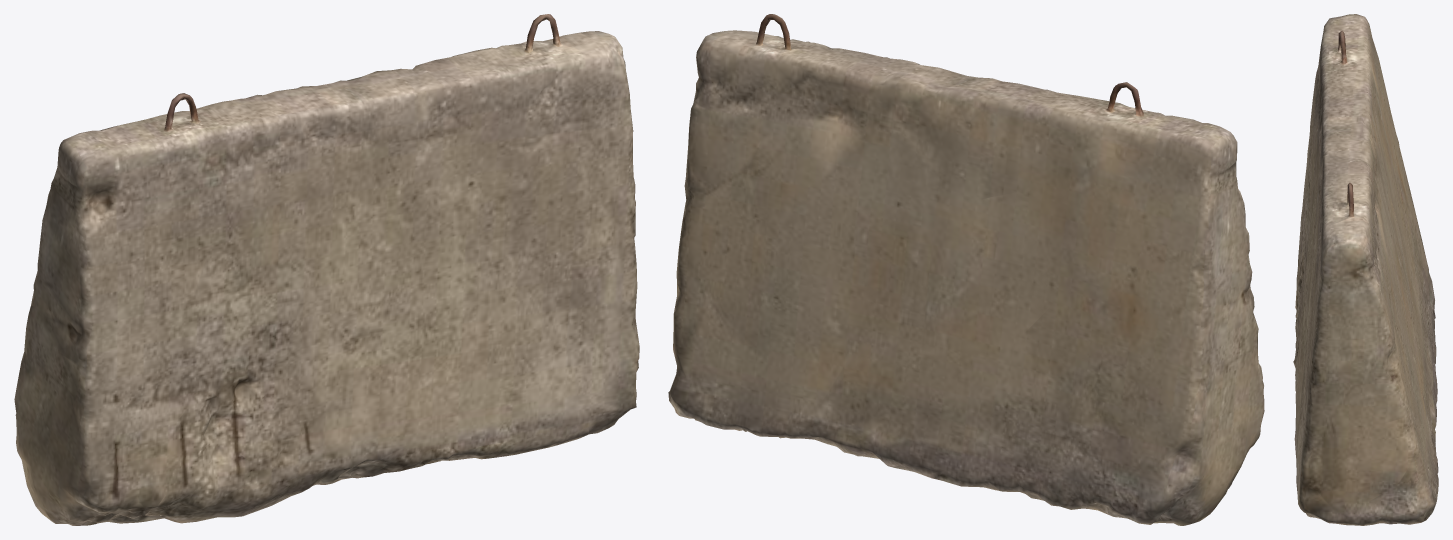
Rendered from road_barrier.glb.
3 renders of one model, left to right at view 1: azimuth 30°, elevation 25°; view 2: azimuth 150°, elevation 25°; view 3: azimuth 270°, elevation 25°, orthographic. The views are drawn at different scales.
Parts seen in each view (by area): view 1: concrete_road_barrier_02; view 2: concrete_road_barrier_02; view 3: concrete_road_barrier_02.
Boxes of the visible parts, x1,y1,x2,y2 form: concrete_road_barrier_02: (14,14,639,525); concrete_road_barrier_02: (668,14,1264,525); concrete_road_barrier_02: (1293,14,1438,525).
Bounding box in the file's own units: 1.56 × 1.11 × 0.4421.
Materials: 1 (1 with a texture image).
